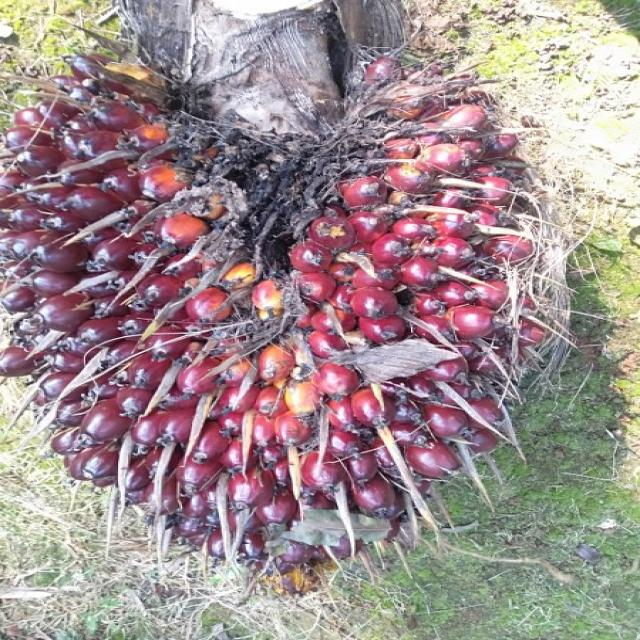fraksi 1: (0, 38, 581, 611)
